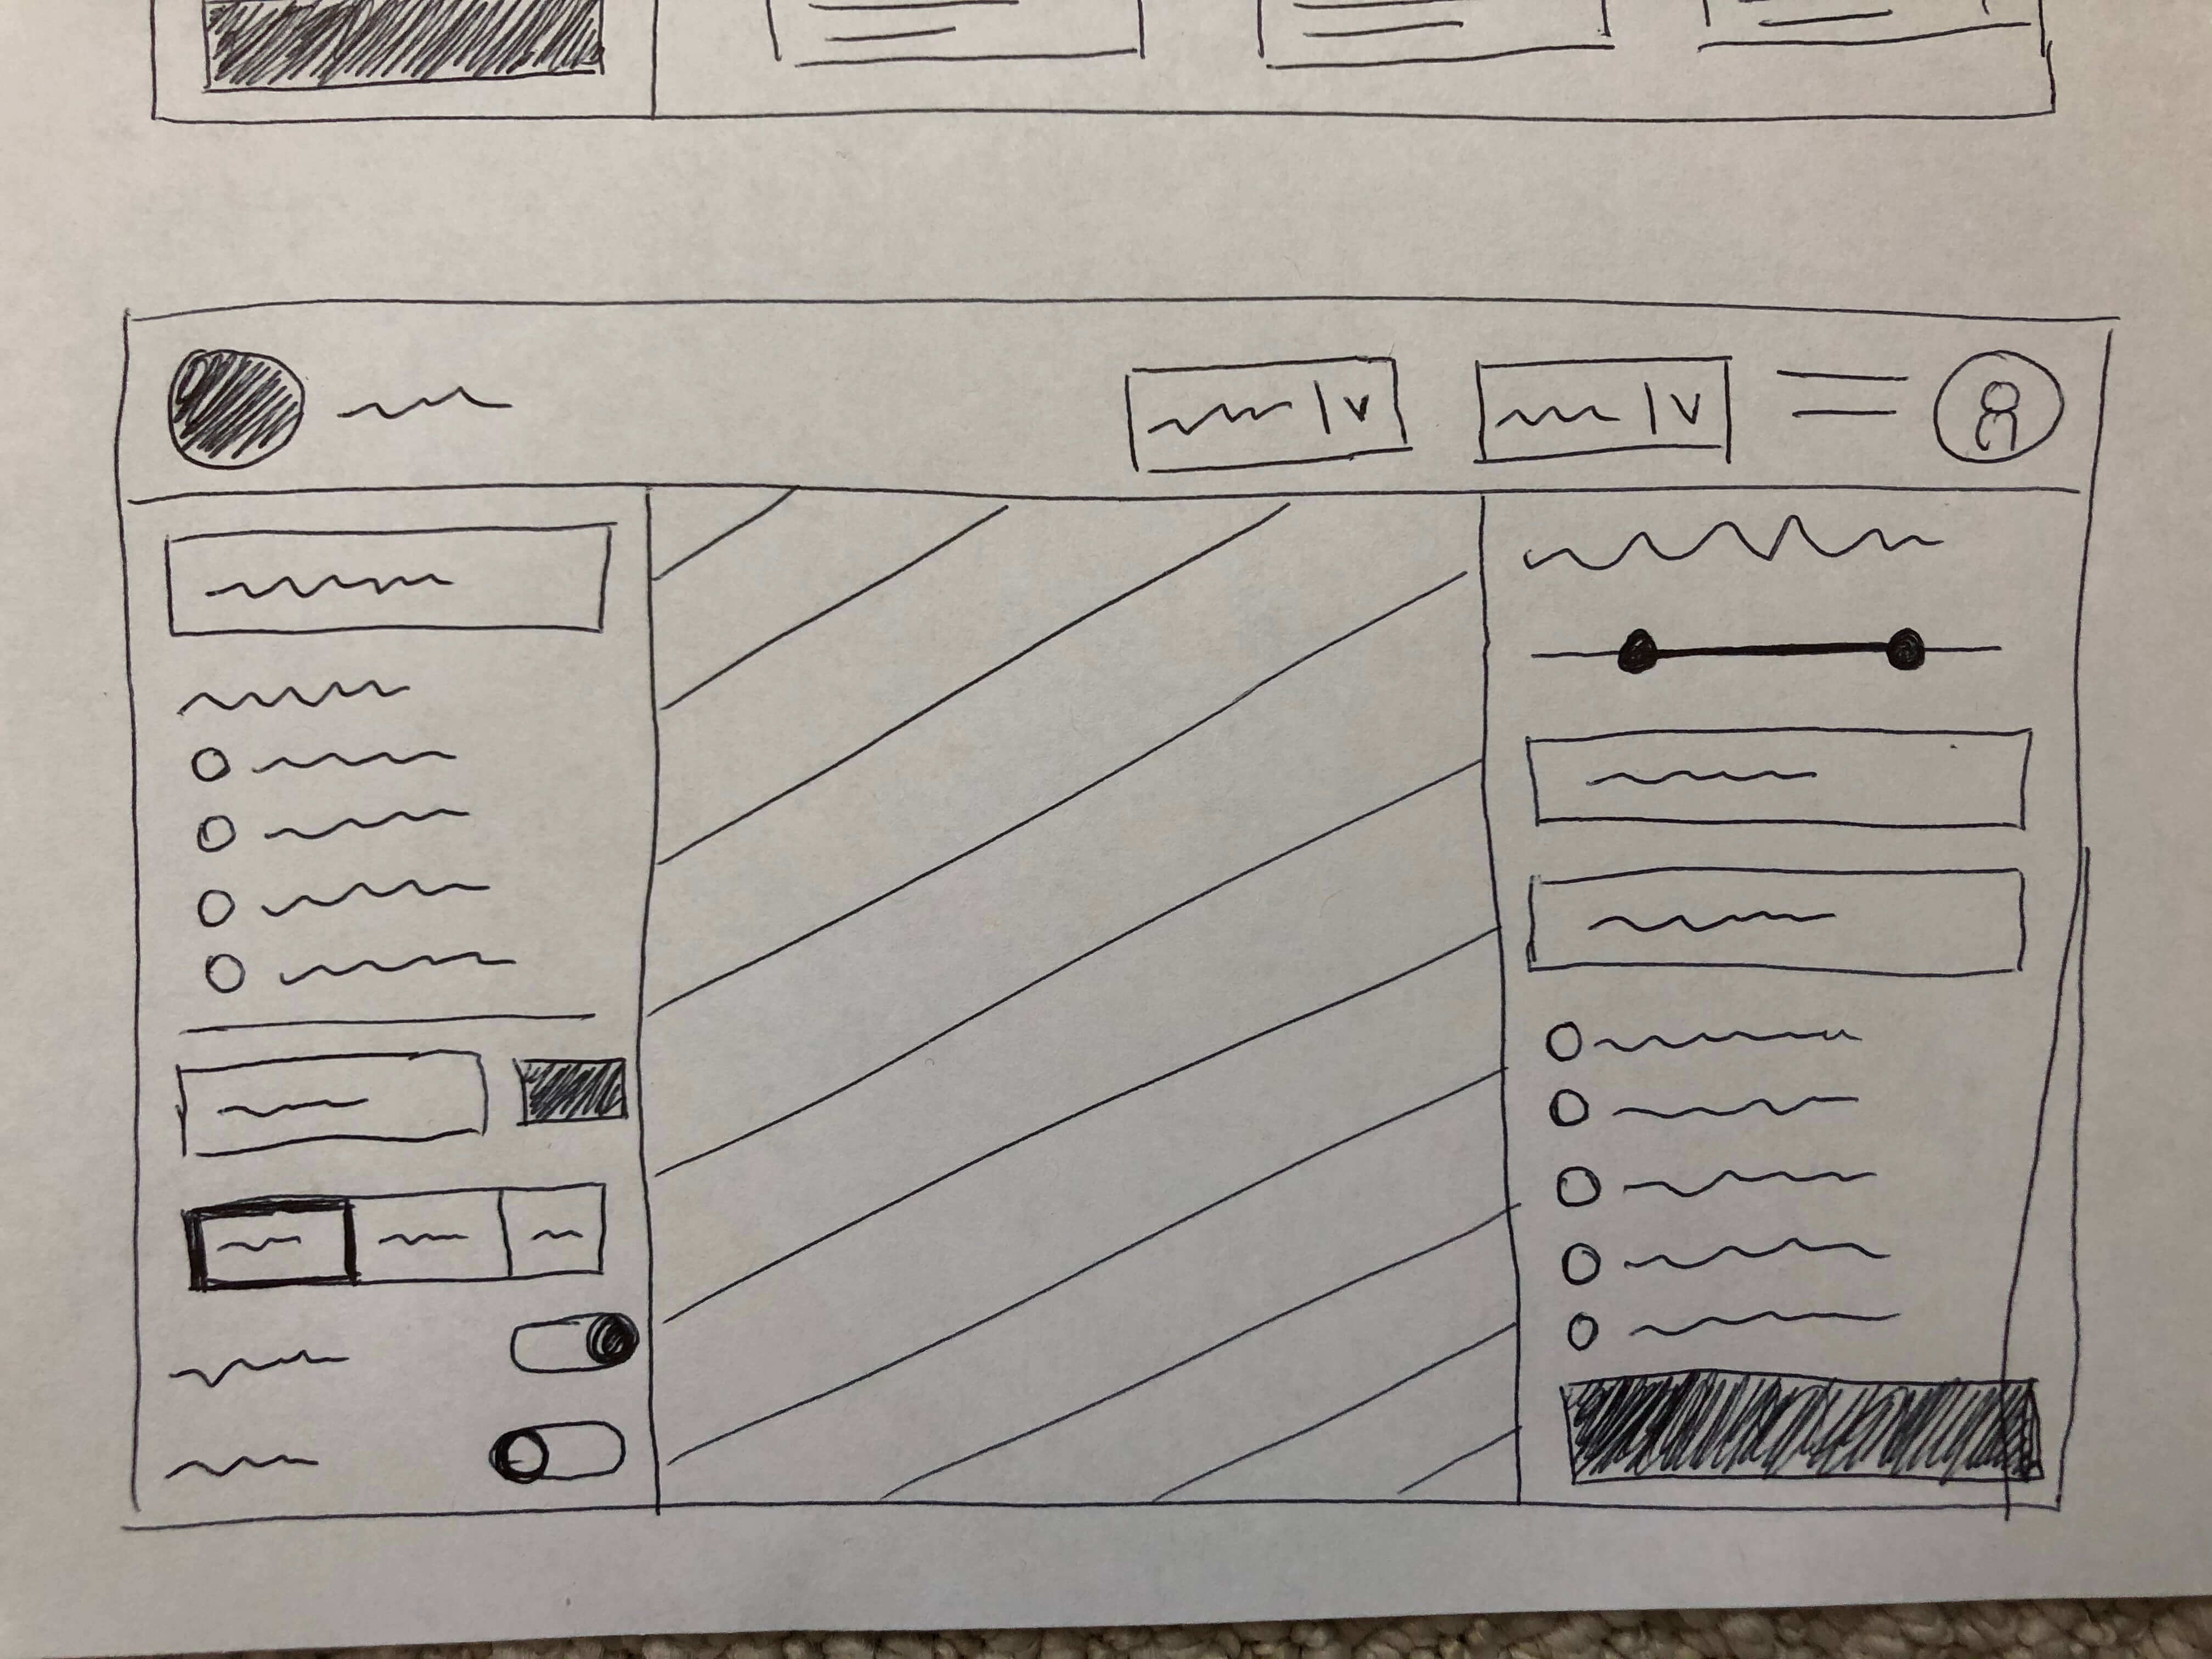avatar: (1773, 343, 2074, 469)
button: (503, 1047, 634, 1140)
input: (1519, 861, 2033, 995), (1515, 714, 2048, 843), (157, 518, 624, 647), (169, 1044, 493, 1164)
map: (637, 465, 1529, 1532)
radio-button: (1547, 1143, 1881, 1215), (1561, 1300, 1911, 1364), (1559, 1230, 1898, 1297), (202, 938, 528, 1004), (195, 870, 500, 938), (1545, 1011, 1874, 1072), (188, 798, 479, 856), (1543, 1079, 1860, 1129), (185, 737, 469, 791)
radio-group: (178, 1180, 611, 1286)
slider: (1526, 612, 2013, 687)
split-button: (1115, 340, 1416, 479), (1465, 340, 1752, 474)
switch: (484, 1412, 632, 1492), (505, 1300, 641, 1380)
